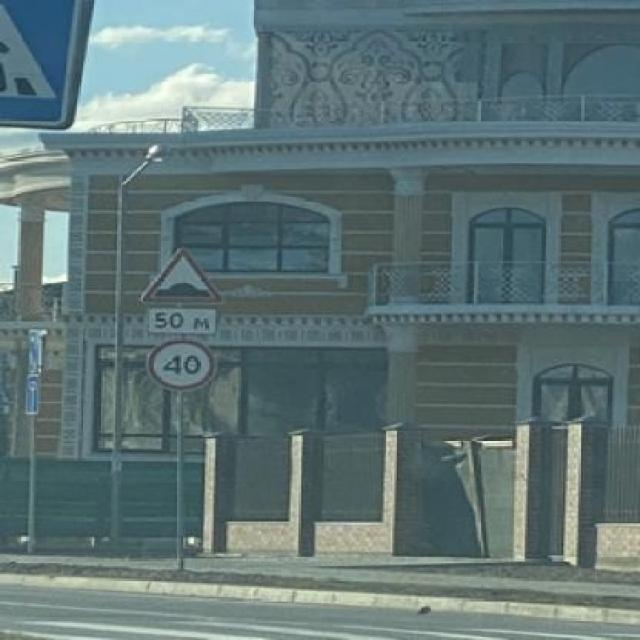forb_speed_over_40: (152, 336, 213, 387)
